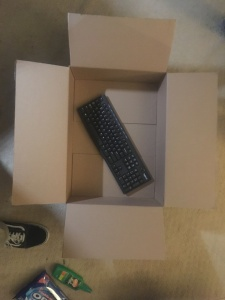innerbox: (67, 64, 165, 208)
outerbox: (16, 12, 214, 259)
product: (81, 92, 151, 193)
